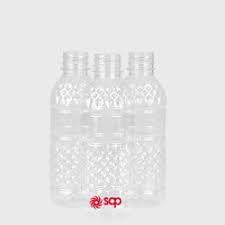BIODEGRADABLE: (125, 49, 176, 204), (89, 51, 132, 205), (54, 47, 91, 202)
